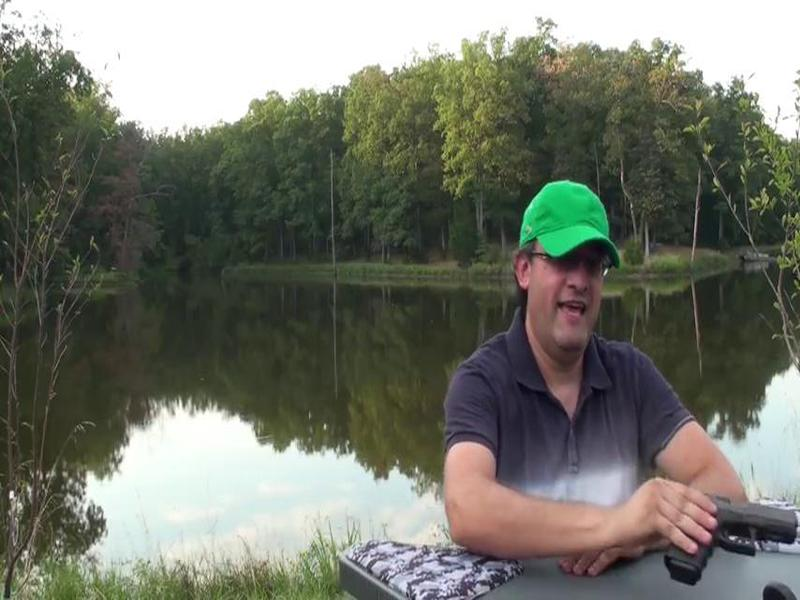Pistola: (628, 471, 800, 594)
